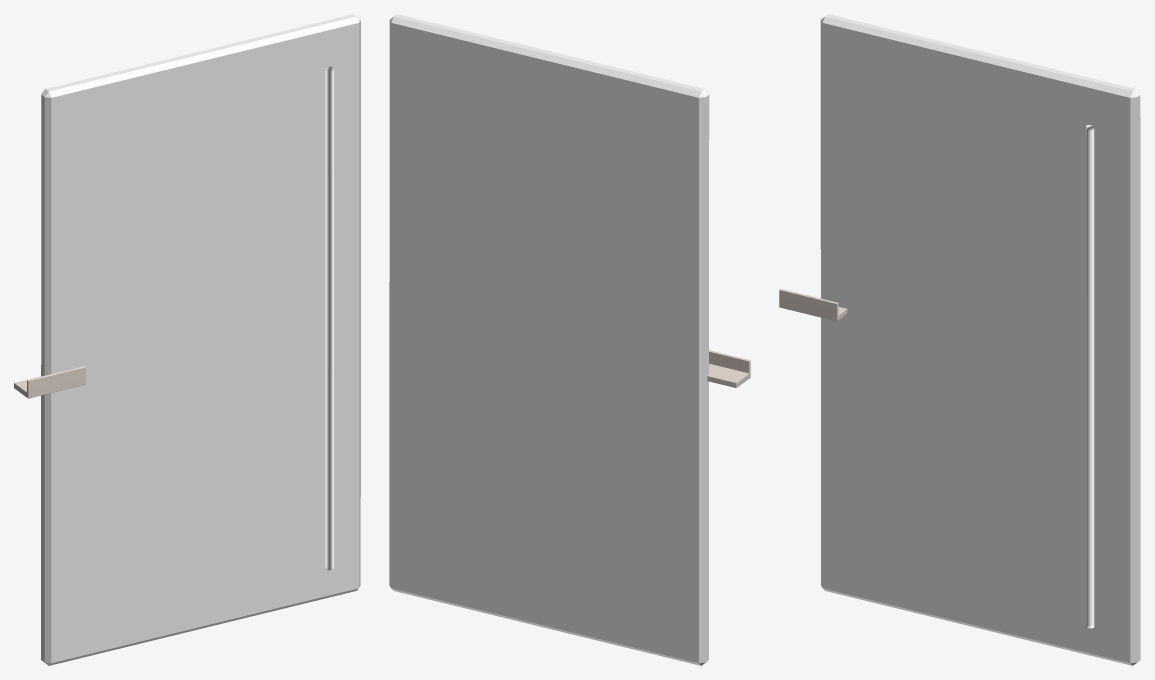
Rendered from Cabinet_a52712b3.obj.
3 views of the same model, side by side, from view 1: azimuth 30°, elevation 25°; view 2: azimuth 150°, elevation 25°; view 3: azimuth 330°, elevation 25° (orthographic).
Parts seen in each view (by area): view 1: FP422:Door4_77df4e81, handle_3_76mm_01_e313ab49; view 2: FP422:Door4_77df4e81, handle_3_76mm_01_e313ab49; view 3: FP422:Door4_77df4e81, handle_3_76mm_01_e313ab49.
Part boxes in pixels (bbox=[...]): FP422:Door4_77df4e81: bbox=[41, 14, 360, 665]; handle_3_76mm_01_e313ab49: bbox=[14, 366, 85, 398]; FP422:Door4_77df4e81: bbox=[389, 14, 709, 665]; handle_3_76mm_01_e313ab49: bbox=[707, 350, 750, 387]; FP422:Door4_77df4e81: bbox=[820, 14, 1140, 665]; handle_3_76mm_01_e313ab49: bbox=[779, 289, 847, 321].
Size of the model in its own units: 0.4526 by 0.7198 by 0.0423.
